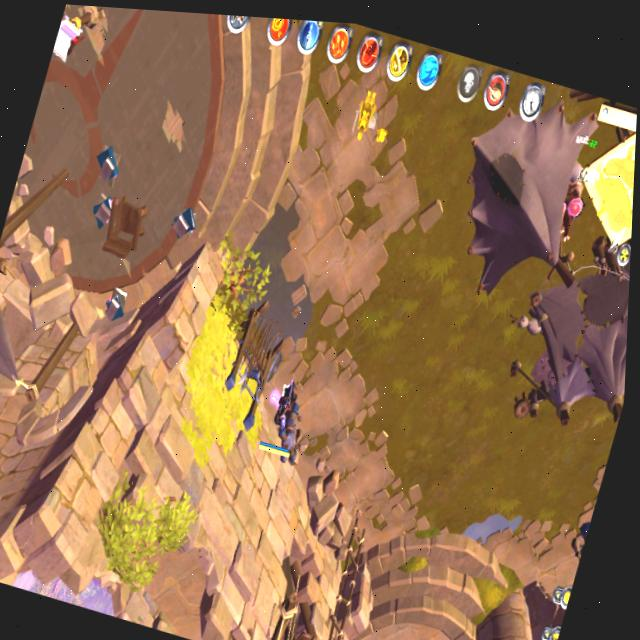red: (252, 370, 313, 465)
